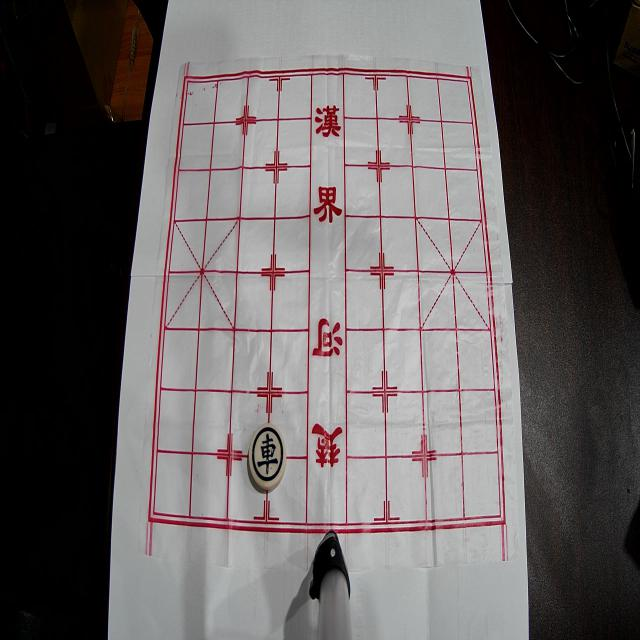black-chariot: (248, 422, 286, 490)
